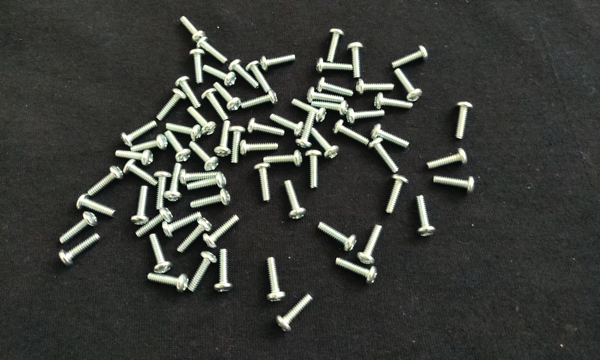shortscrew: (275, 294, 313, 333), (58, 234, 101, 268), (203, 215, 240, 251), (177, 218, 212, 254), (59, 212, 98, 244), (188, 252, 218, 293), (318, 223, 358, 253), (335, 258, 378, 285), (369, 138, 400, 175), (135, 208, 173, 238), (87, 166, 124, 196), (357, 225, 384, 266), (122, 159, 159, 188), (385, 174, 411, 215), (156, 87, 187, 121), (120, 120, 158, 147), (76, 193, 117, 217), (124, 160, 159, 188), (163, 213, 202, 238), (333, 120, 369, 147), (427, 149, 469, 172), (189, 140, 220, 171), (371, 125, 411, 149), (394, 68, 423, 101), (202, 87, 230, 121), (245, 59, 272, 94), (434, 175, 476, 197), (311, 127, 339, 160), (284, 181, 307, 221), (165, 131, 192, 165), (187, 107, 217, 137), (292, 98, 328, 123), (197, 37, 229, 65), (149, 234, 171, 274), (229, 59, 259, 88), (190, 190, 231, 211), (267, 258, 286, 303), (214, 249, 233, 294), (392, 45, 429, 68), (175, 76, 201, 108), (187, 173, 228, 193), (270, 113, 305, 136), (164, 163, 184, 203), (417, 196, 436, 238), (213, 83, 241, 111), (132, 187, 152, 226), (148, 274, 188, 293), (130, 134, 168, 153), (296, 113, 316, 149), (455, 102, 473, 141), (356, 78, 395, 96), (264, 150, 303, 168), (316, 78, 355, 96), (180, 169, 223, 185), (326, 28, 345, 64), (214, 121, 232, 159), (247, 118, 285, 136), (239, 141, 279, 158), (254, 162, 271, 202), (180, 16, 206, 42), (306, 149, 322, 191), (241, 91, 278, 109), (166, 123, 203, 141), (154, 171, 171, 210), (306, 87, 345, 104), (375, 93, 415, 109), (346, 108, 386, 124), (260, 54, 297, 71), (228, 127, 245, 164), (348, 41, 364, 79), (316, 58, 354, 74), (115, 150, 155, 165), (311, 100, 349, 115)
